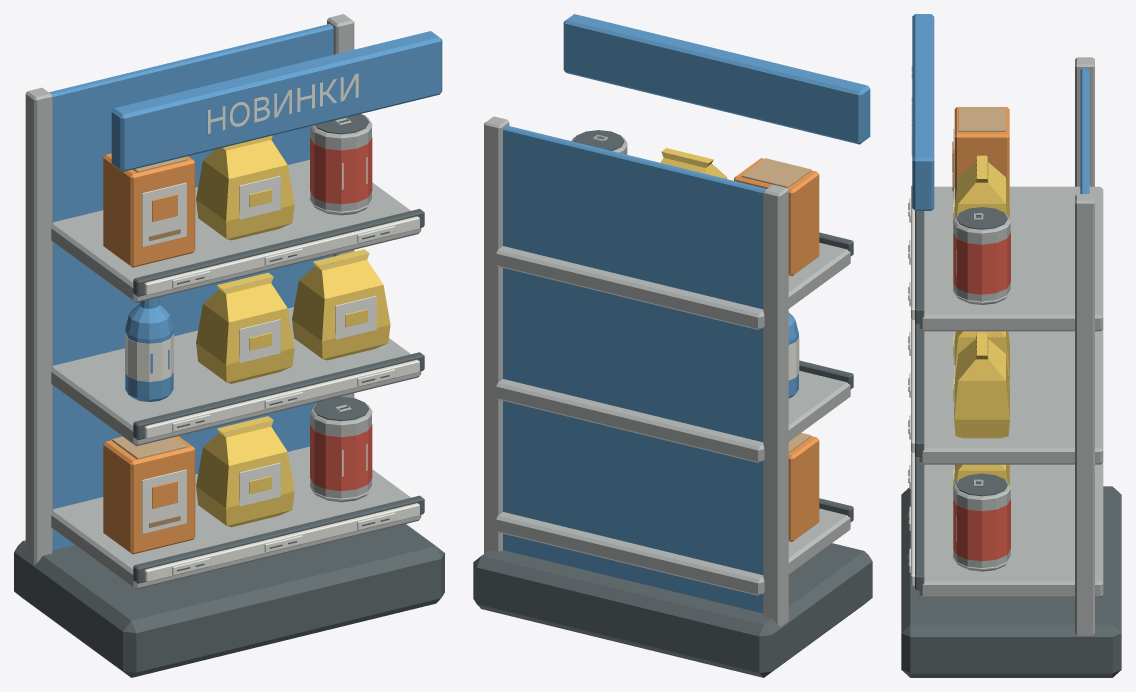
The model's file is Shelf_Endcap_Compact.fbx.
3 renders of one model, left to right at view 1: azimuth 30°, elevation 25°; view 2: azimuth 150°, elevation 25°; view 3: azimuth 270°, elevation 25°, orthographic. The views are drawn at different scales.
Parts seen in each view (by area): view 1: Shelf_Endcap_Compact__LPCXFER, Shelf_Endcap_Compact__Endcap_Back__LPCXFER, Shelf_Endcap_Compact__Endcap_Header__LPCXFER, Shelf_Endcap_Compact__Endcap_Shelf_2__LPCXFER, Shelf_Endcap_Compact__Endcap_Shelf_3__LPCXFER, Shelf_Endcap_Compact__Endcap_Shelf_1__LPCXFER, Endcap_Item_0_0__LPCXFER, Endcap_Item_2_0__LPCXFER, Endcap_Item_1_1__LPCXFER, Endcap_Item_0_1__LPCXFER, Endcap_Item_1_2__LPCXFER, Endcap_Item_2_1__LPCXFER (+4 smaller); view 2: Shelf_Endcap_Compact__Endcap_Back__LPCXFER, Shelf_Endcap_Compact__LPCXFER, Shelf_Endcap_Compact__Endcap_Header__LPCXFER, Shelf_Endcap_Compact__Endcap_Shelf_2__LPCXFER, Shelf_Endcap_Compact__Endcap_Shelf_3__LPCXFER, Shelf_Endcap_Compact__Endcap_Shelf_1__LPCXFER, Endcap_Item_2_0__LPCXFER, Endcap_Item_0_0__LPCXFER, Endcap_Item_2_1__LPCXFER, Endcap_Item_1_0__LPCXFER, Endcap_Item_2_2__LPCXFER; view 3: Shelf_Endcap_Compact__LPCXFER, Shelf_Endcap_Compact__Endcap_Shelf_3__LPCXFER, Shelf_Endcap_Compact__Endcap_Shelf_1__LPCXFER, Shelf_Endcap_Compact__Endcap_Shelf_2__LPCXFER, Endcap_Item_0_2__LPCXFER, Endcap_Item_2_2__LPCXFER, Endcap_Item_1_2__LPCXFER, Shelf_Endcap_Compact__Endcap_Header__LPCXFER, Endcap_Item_2_0__LPCXFER, Endcap_Item_2_1__LPCXFER, Shelf_Endcap_Compact__Endcap_Back__LPCXFER, Endcap_Item_1_1__LPCXFER (+1 smaller).
Part boxes in pixels (x1=…): Shelf_Endcap_Compact__LPCXFER: x1=14, y1=14, x2=444, y2=677; Shelf_Endcap_Compact__Endcap_Back__LPCXFER: x1=49, y1=24, x2=333, y2=550; Shelf_Endcap_Compact__Endcap_Header__LPCXFER: x1=111, y1=31, x2=442, y2=171; Shelf_Endcap_Compact__Endcap_Shelf_2__LPCXFER: x1=51, y1=307, x2=424, y2=446; Shelf_Endcap_Compact__Endcap_Shelf_3__LPCXFER: x1=51, y1=159, x2=424, y2=302; Shelf_Endcap_Compact__Endcap_Shelf_1__LPCXFER: x1=51, y1=446, x2=424, y2=589; Endcap_Item_0_0__LPCXFER: x1=103, y1=436, x2=195, y2=554; Endcap_Item_2_0__LPCXFER: x1=103, y1=153, x2=195, y2=267; Endcap_Item_1_1__LPCXFER: x1=196, y1=272, x2=294, y2=383; Endcap_Item_0_1__LPCXFER: x1=196, y1=416, x2=294, y2=527; Endcap_Item_1_2__LPCXFER: x1=292, y1=249, x2=390, y2=360; Endcap_Item_2_1__LPCXFER: x1=196, y1=135, x2=294, y2=240; Shelf_Endcap_Compact__Endcap_Back__LPCXFER: x1=503, y1=125, x2=766, y2=613; Shelf_Endcap_Compact__LPCXFER: x1=473, y1=116, x2=872, y2=677; Shelf_Endcap_Compact__Endcap_Header__LPCXFER: x1=563, y1=14, x2=870, y2=144; Shelf_Endcap_Compact__Endcap_Shelf_2__LPCXFER: x1=495, y1=360, x2=853, y2=463; Shelf_Endcap_Compact__Endcap_Shelf_3__LPCXFER: x1=495, y1=232, x2=853, y2=330; Shelf_Endcap_Compact__Endcap_Shelf_1__LPCXFER: x1=495, y1=498, x2=853, y2=596; Endcap_Item_2_0__LPCXFER: x1=734, y1=158, x2=819, y2=276; Endcap_Item_0_0__LPCXFER: x1=788, y1=432, x2=819, y2=541; Endcap_Item_2_1__LPCXFER: x1=660, y1=148, x2=727, y2=178; Endcap_Item_1_0__LPCXFER: x1=788, y1=312, x2=799, y2=398; Endcap_Item_2_2__LPCXFER: x1=571, y1=130, x2=627, y2=154; Shelf_Endcap_Compact__LPCXFER: x1=901, y1=57, x2=1121, y2=677; Shelf_Endcap_Compact__Endcap_Shelf_3__LPCXFER: x1=908, y1=185, x2=1103, y2=331; Shelf_Endcap_Compact__Endcap_Shelf_1__LPCXFER: x1=908, y1=452, x2=1103, y2=597; Shelf_Endcap_Compact__Endcap_Shelf_2__LPCXFER: x1=908, y1=319, x2=1103, y2=464; Endcap_Item_0_2__LPCXFER: x1=953, y1=473, x2=1011, y2=571; Endcap_Item_2_2__LPCXFER: x1=953, y1=207, x2=1011, y2=304; Endcap_Item_1_2__LPCXFER: x1=953, y1=332, x2=1009, y2=438; Shelf_Endcap_Compact__Endcap_Header__LPCXFER: x1=912, y1=14, x2=934, y2=210; Endcap_Item_2_0__LPCXFER: x1=952, y1=107, x2=1009, y2=206; Endcap_Item_2_1__LPCXFER: x1=953, y1=155, x2=1009, y2=223; Shelf_Endcap_Compact__Endcap_Back__LPCXFER: x1=1080, y1=68, x2=1089, y2=193; Endcap_Item_1_1__LPCXFER: x1=953, y1=331, x2=1009, y2=381.
Size of the model in its own units: 94 by 157 by 60.
